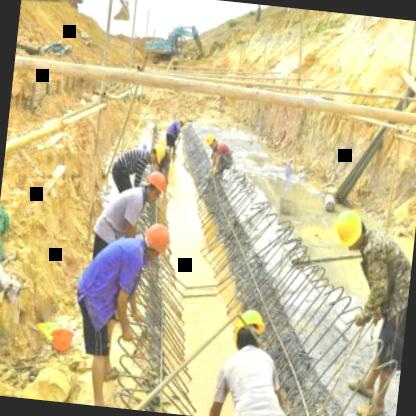helmet: (227, 304, 269, 360), (140, 222, 173, 266), (330, 209, 367, 246), (142, 168, 169, 205), (146, 143, 166, 166), (204, 133, 222, 154)
